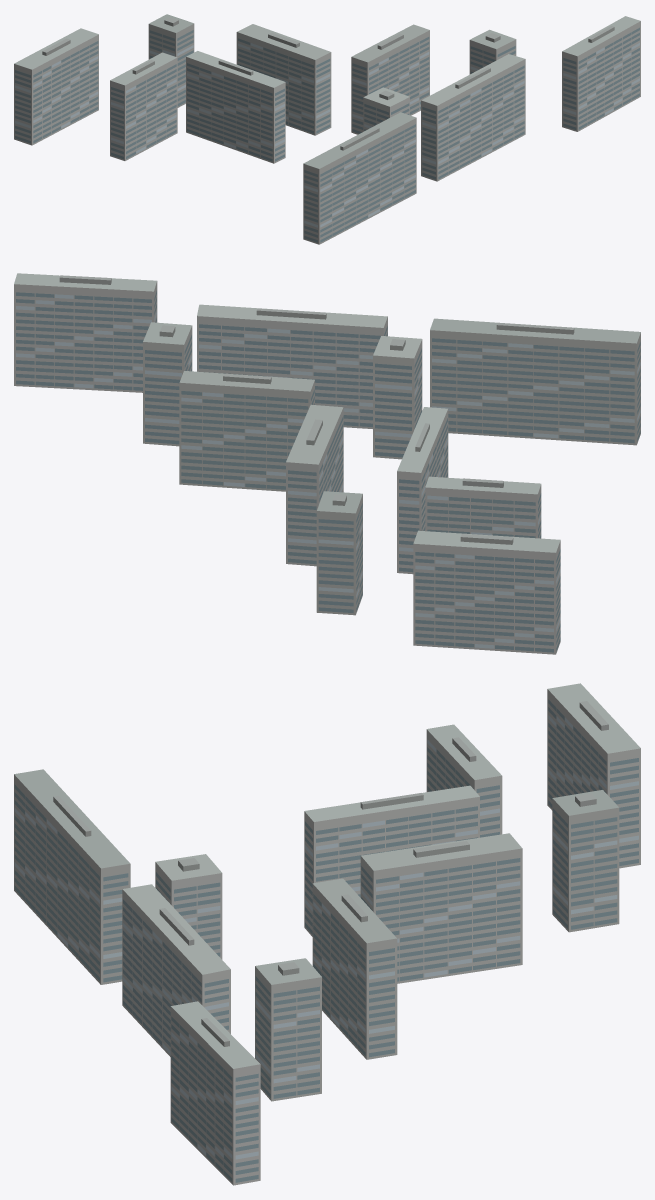
File: apt-a13593802.glb
3 renders of one model, top to bottom at view 1: azimuth 30°, elevation 25°; view 2: azimuth 150°, elevation 25°; view 3: azimuth 270°, elevation 25°, orthographic. The views are drawn at different scales.
Parts seen in each view (by area): view 1: apt-a13593802; view 2: apt-a13593802; view 3: apt-a13593802.
Part boxes in pixels (x1,y1,x2,y2): apt-a13593802: (14,14,640,244); apt-a13593802: (14,273,640,654); apt-a13593802: (14,683,640,1185).
Bounding box in the file's own units: 325 × 47.81 × 223.
